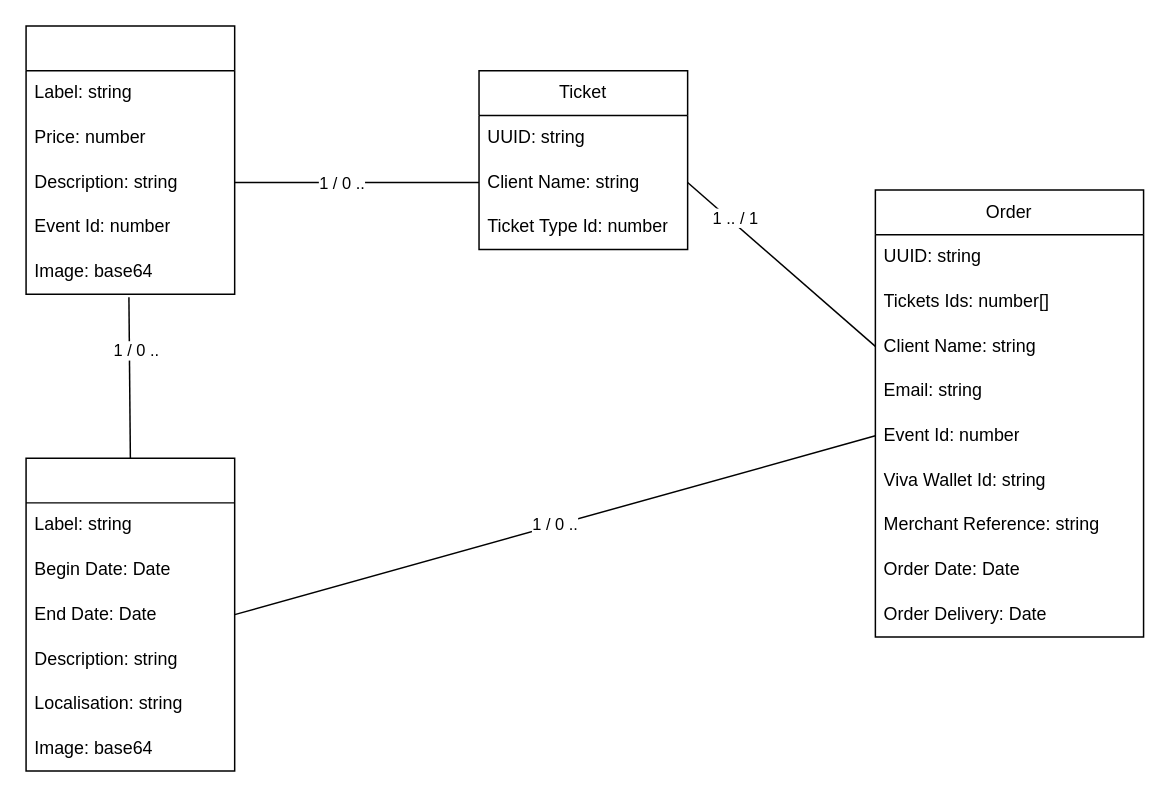
Image size: 1170x797. Some labels were removed from this diagram. Here are the shapes that lost their labels. From the top down, the box of each, then its label:
(25, 25, 235, 294): Ticket Type
(25, 457, 235, 771): Event
